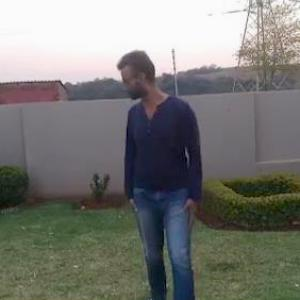follow: (115, 40, 207, 299)
